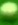white: (0, 0, 18, 25)
